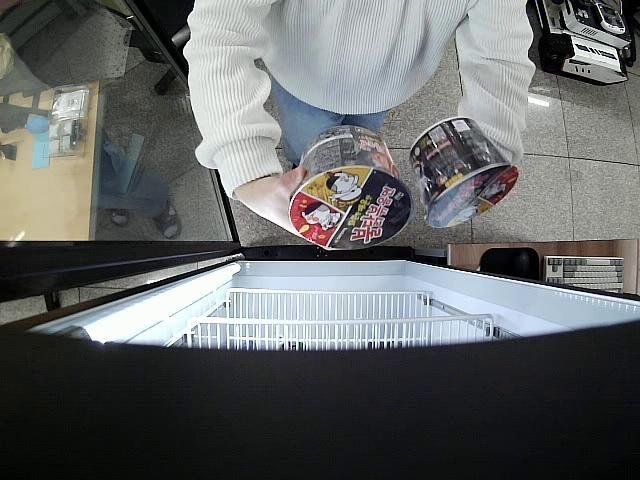07_buldak_L: (286, 125, 414, 254)
